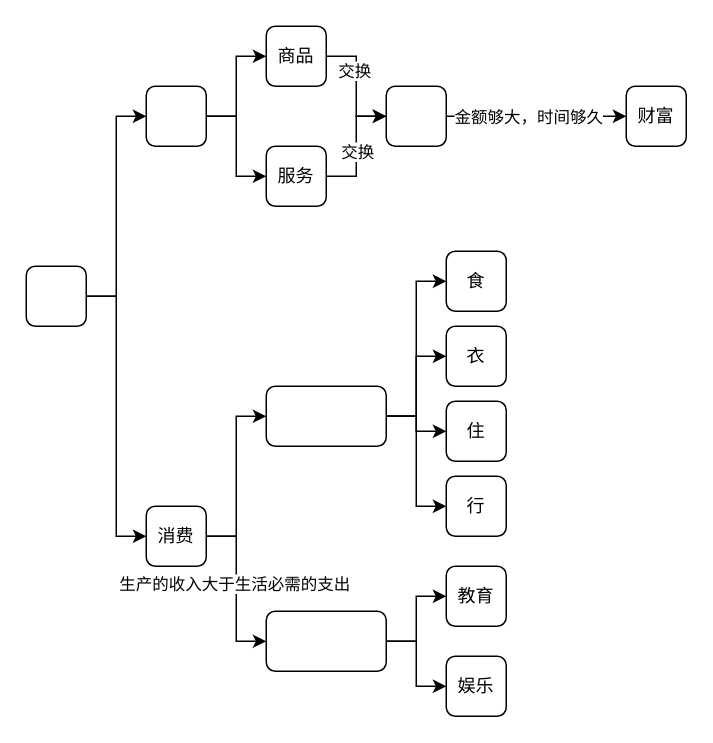
This 713x743 diagram has some shape labels left out. The box of each missing label's shape, as (x1, y1, x2, y2) in pixels:
其他消费: (265, 610, 386, 671)
必需消费: (265, 385, 386, 446)
生产: (145, 85, 206, 146)
生活: (25, 265, 86, 326)
金钱: (385, 85, 446, 146)
